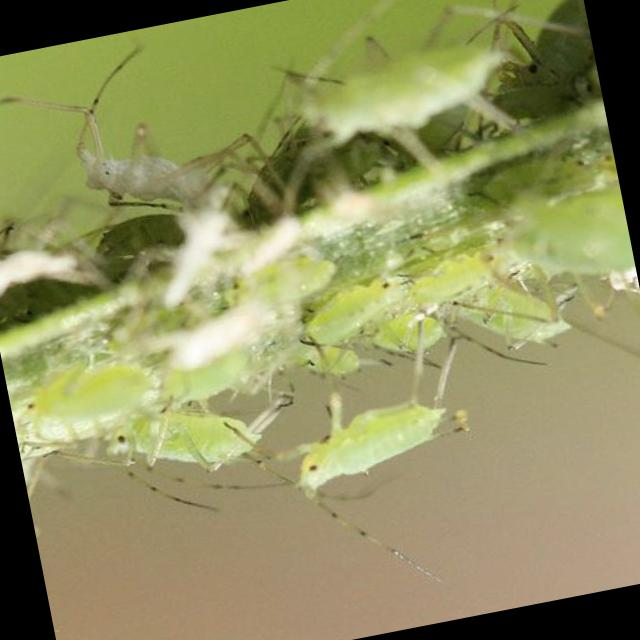Aphids: (223, 299, 522, 559), (59, 352, 312, 530), (282, 2, 525, 154), (423, 254, 581, 373), (272, 244, 426, 362)
